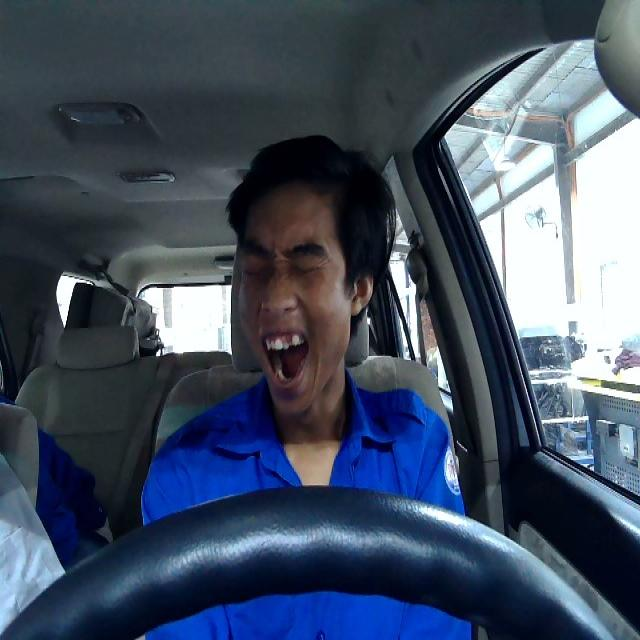yarning: (234, 183, 355, 416)
